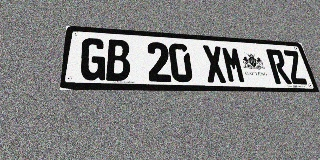0: (168, 43, 193, 82)
2: (147, 42, 171, 82)
B: (106, 39, 130, 81)
G: (79, 38, 106, 81)
M: (221, 46, 247, 83)
R: (266, 49, 292, 84)
X: (202, 45, 228, 83)
Z: (282, 50, 309, 84)
